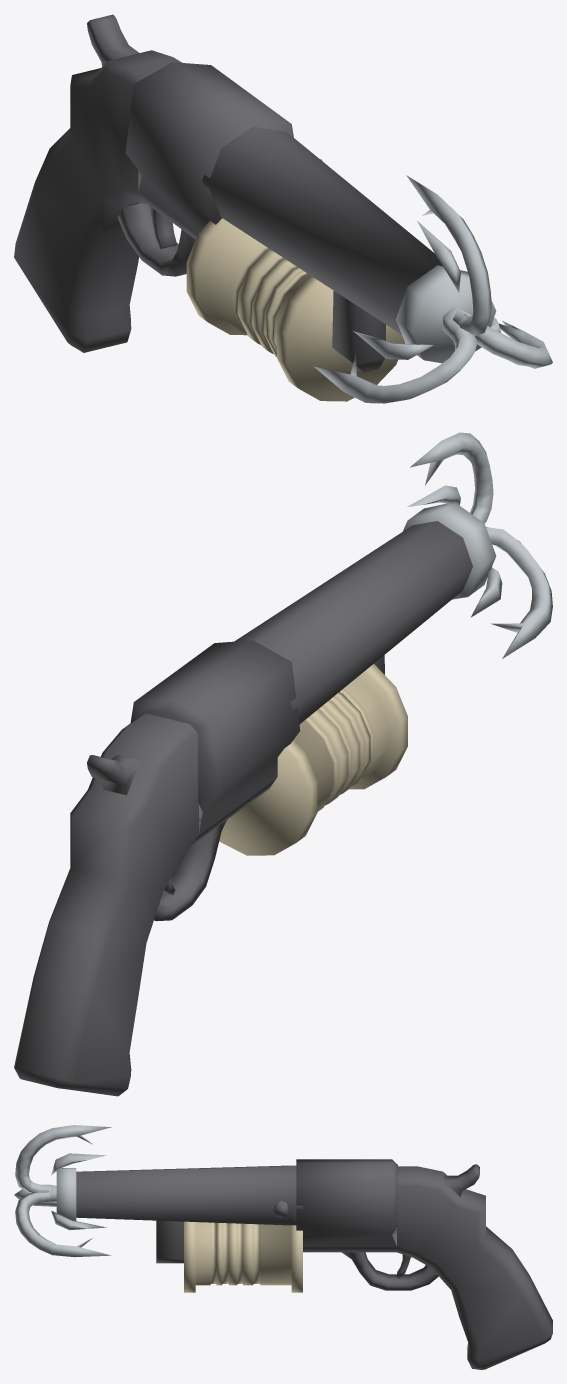
File: grapple_launcher.glb
The picture shows the model from 3 angles, top to bottom: view 1: azimuth 30°, elevation 25°; view 2: azimuth 150°, elevation 25°; view 3: azimuth 270°, elevation 25°; orthographic projection. The views are drawn at different scales.
Visible parts, largest first — view 1: grapple_launcher; view 2: grapple_launcher; view 3: grapple_launcher.
Boxes of the visible parts, x1,y1,x2,y2 form: grapple_launcher: (14, 14, 552, 403); grapple_launcher: (14, 432, 552, 1096); grapple_launcher: (14, 1125, 552, 1369).
Bounding box in the file's own units: 0.0557 × 0.1113 × 0.2275.
